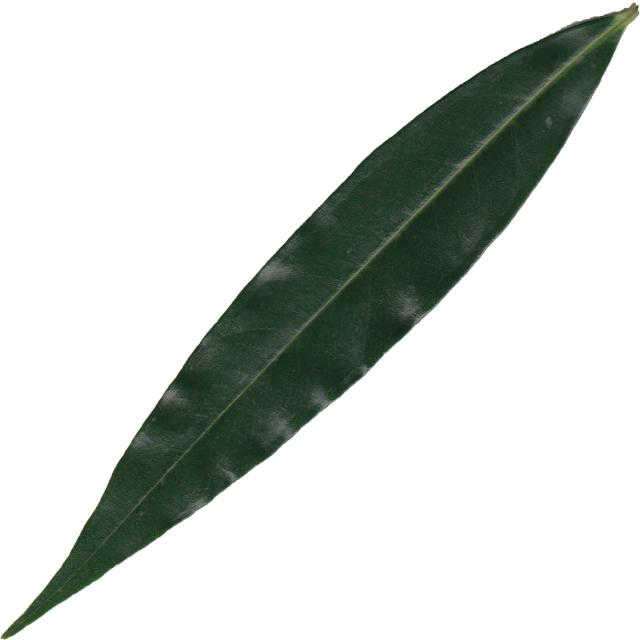Medicinal-Rose Apple: (2, 9, 640, 640)
